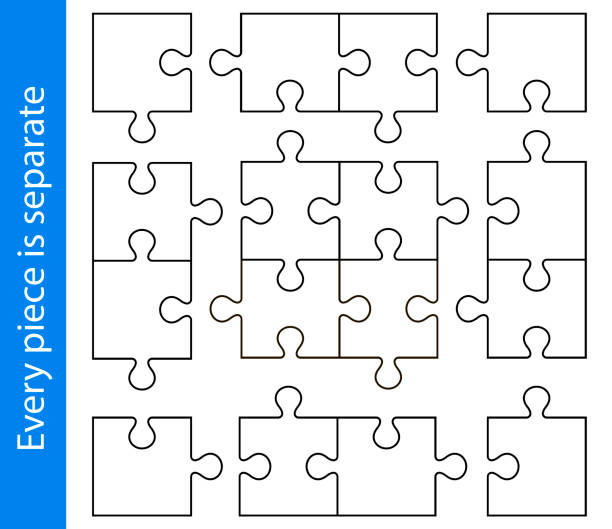puzzle piece: (220, 117, 357, 288), (472, 127, 598, 290), (474, 377, 602, 523), (86, 400, 231, 526), (453, 3, 601, 118)
